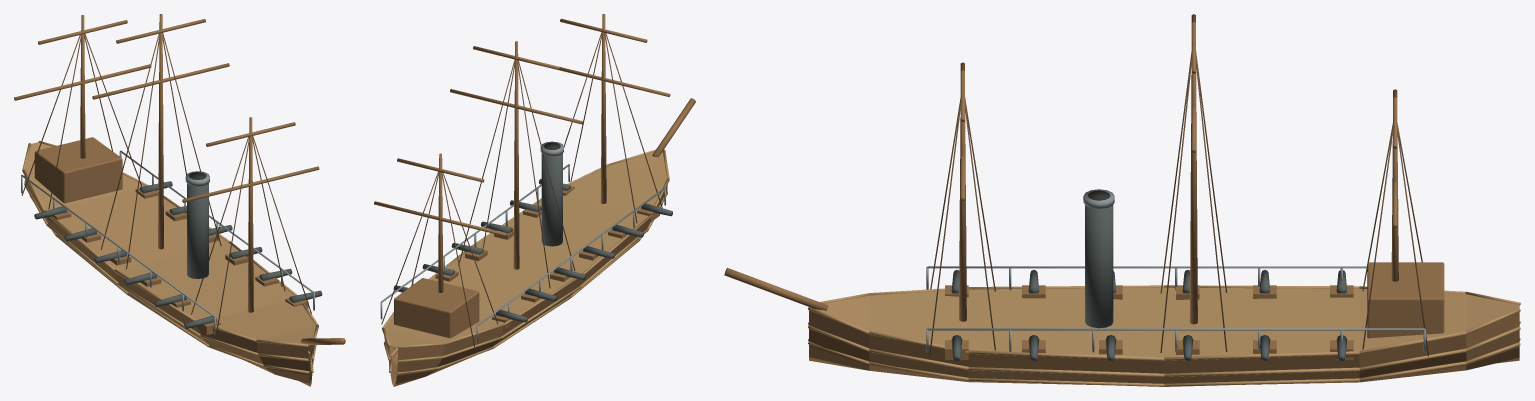
The model's file is steam-corvette.glb.
3 views of the same model, side by side, from view 1: azimuth 30°, elevation 25°; view 2: azimuth 150°, elevation 25°; view 3: azimuth 270°, elevation 25° (orthographic). The views are drawn at different scales.
Parts seen in each view (by area): view 1: unit_root_geometry; view 2: unit_root_geometry; view 3: unit_root_geometry.
Boxes of the visible parts, left/top/right/bottom form: unit_root_geometry: left=14, top=14, right=345, bottom=386; unit_root_geometry: left=374, top=14, right=695, bottom=386; unit_root_geometry: left=724, top=14, right=1520, bottom=386.
Bounding box in the file's own units: 1.7 × 3.3 × 6.72.
